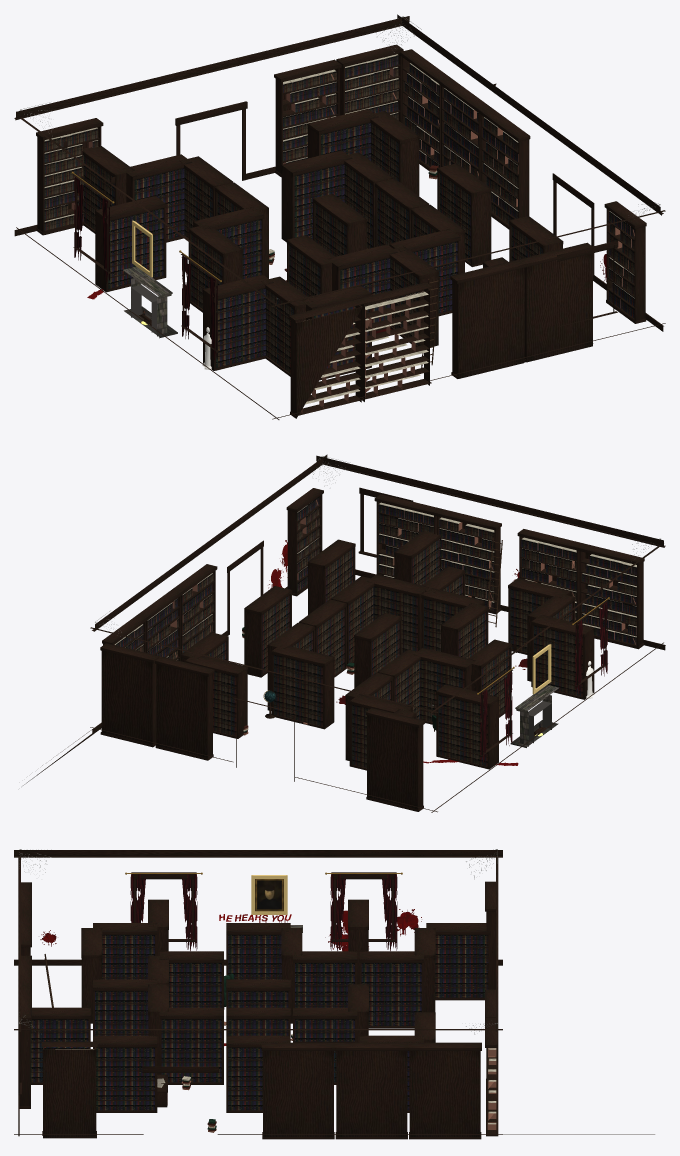
The model's file is dark_library_v13.glb.
3 views of the same model, one above another, from view 1: azimuth 30°, elevation 25°; view 2: azimuth 150°, elevation 25°; view 3: azimuth 270°, elevation 25° (orthographic). The views are drawn at different scales.
Parts seen in each view (by area): view 1: dark_library; view 2: dark_library; view 3: dark_library.
Boxes of the visible parts, <box> form: dark_library: <box>14,14,665,419</box>; dark_library: <box>23,454,665,812</box>; dark_library: <box>14,849,654,1139</box>.
Bounding box in the file's own units: 19.54 × 5.89 × 29.34.
Materials: 34 (24 with a texture image).
